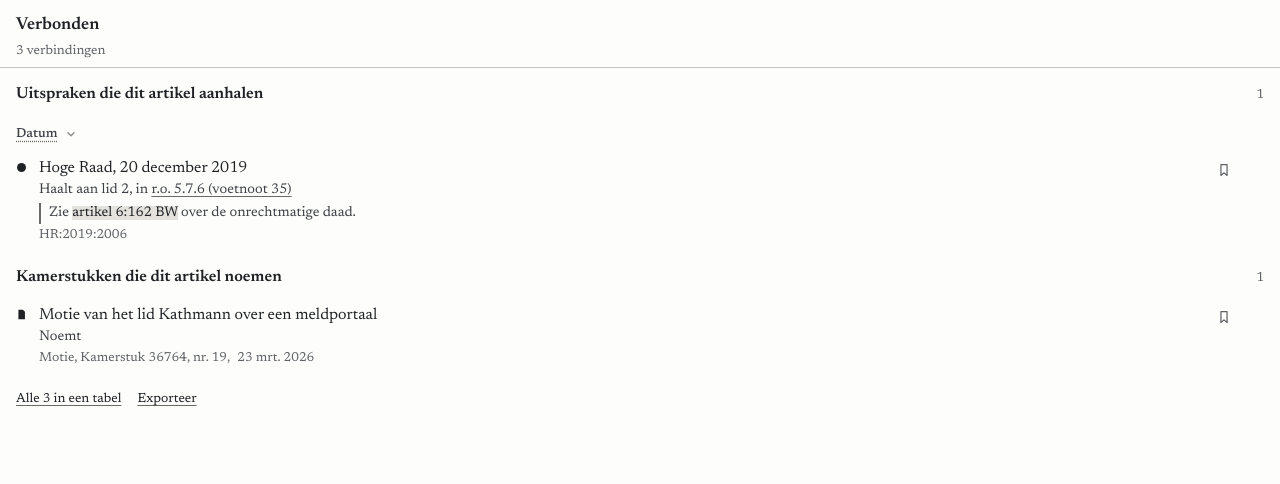
it: Verbonden › opens a Kamerstuk in place under its row, and closes it again
The image size is (1280, 484).
Click the link "Motie van het lid Kathmann over een meldportaal" at (208, 315), box [39,307,377,323]
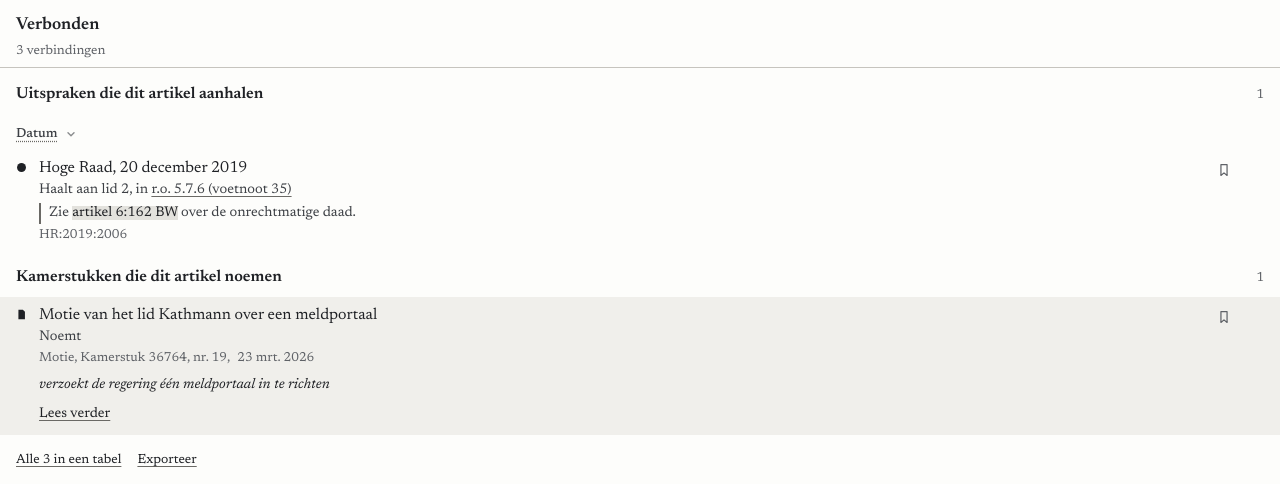
Result: the element with class "row__inhoud" is shown at [0,374,1279,435]
Click the link "Motie van het lid Kathmann over een meldportaal" at (208, 315), box [39,307,377,323]
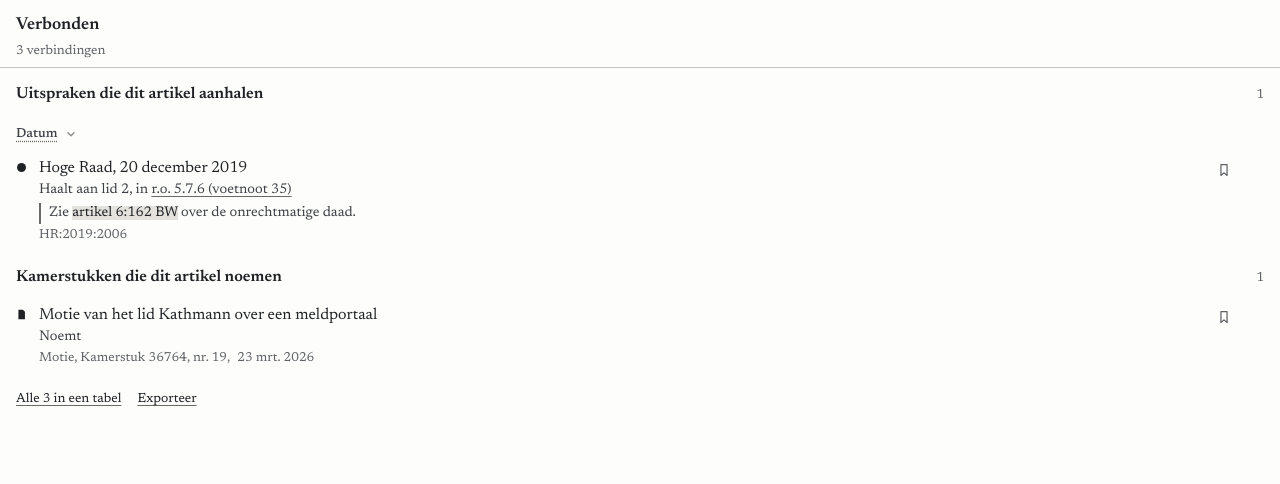
Result: the element with class "row__inhoud" is gone
